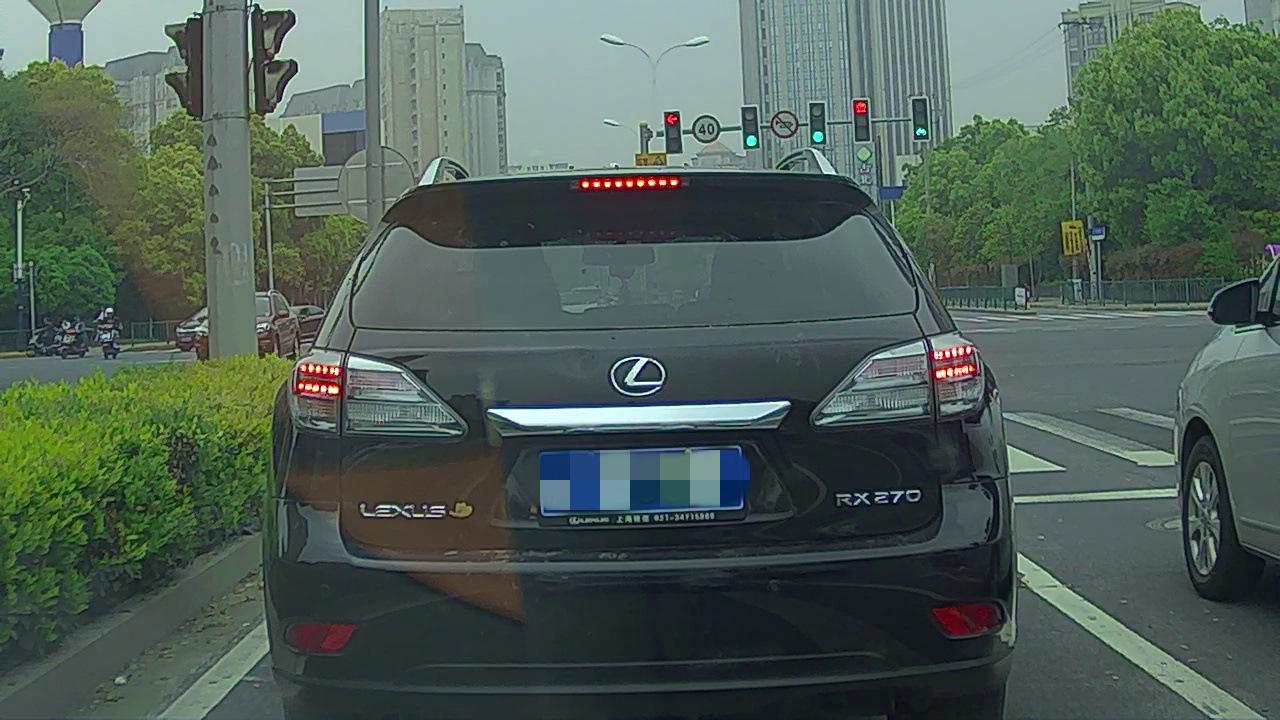traffic_light: (852, 98, 872, 142), (740, 106, 760, 149), (664, 112, 684, 154), (809, 101, 826, 145), (914, 97, 929, 141)
